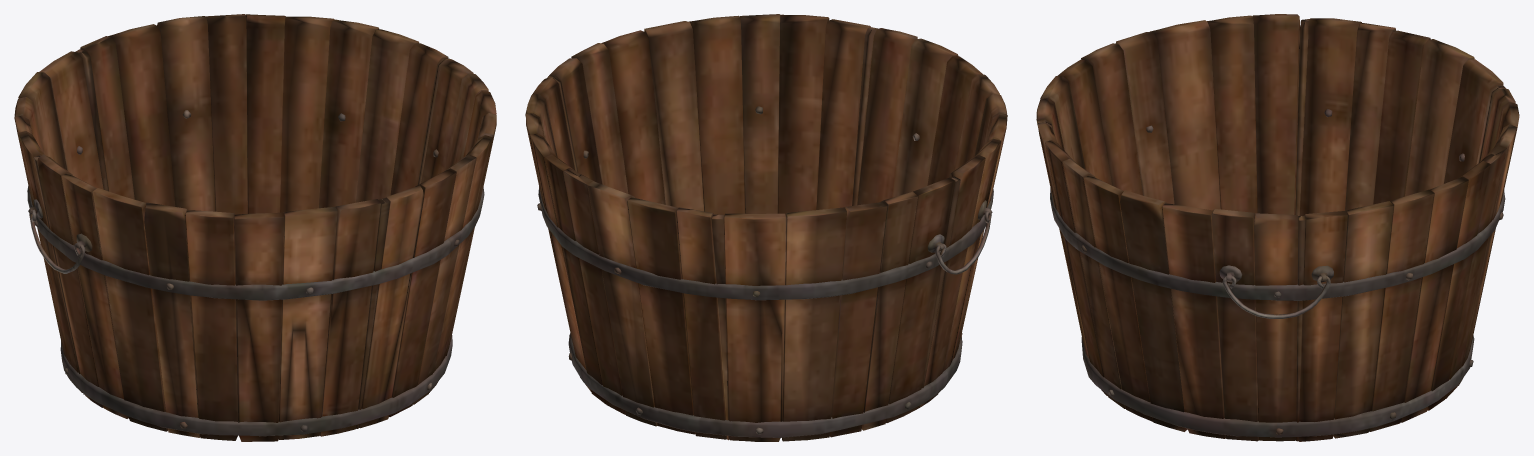
The model's file is wooden_bucket_02.glb.
3 views of the same model, side by side, from view 1: azimuth 30°, elevation 25°; view 2: azimuth 150°, elevation 25°; view 3: azimuth 270°, elevation 25° (orthographic).
Parts seen in each view (by area): view 1: wooden_bucket_02, wooden_bucket_02_handle_01; view 2: wooden_bucket_02, wooden_bucket_02_handle_01; view 3: wooden_bucket_02, wooden_bucket_02_handle_02.
Part boxes in pixels (x1=…): wooden_bucket_02: x1=14, y1=14, x2=496, y2=441; wooden_bucket_02_handle_01: x1=29, y1=209, x2=85, y2=273; wooden_bucket_02: x1=525, y1=14, x2=1007, y2=441; wooden_bucket_02_handle_01: x1=935, y1=211, x2=991, y2=274; wooden_bucket_02: x1=1036, y1=14, x2=1519, y2=441; wooden_bucket_02_handle_02: x1=1222, y1=275, x2=1330, y2=318.
Bounding box in the file's own units: 0.6143 × 0.3504 × 0.6163.
Materials: 1 (1 with a texture image).
